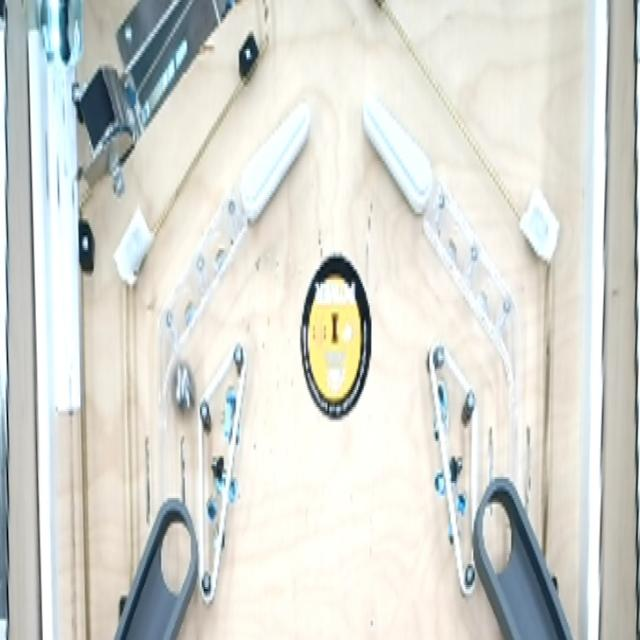ball: (167, 360, 197, 420)
flipper-left: (362, 91, 442, 242)
flipper-right: (237, 94, 317, 241)
